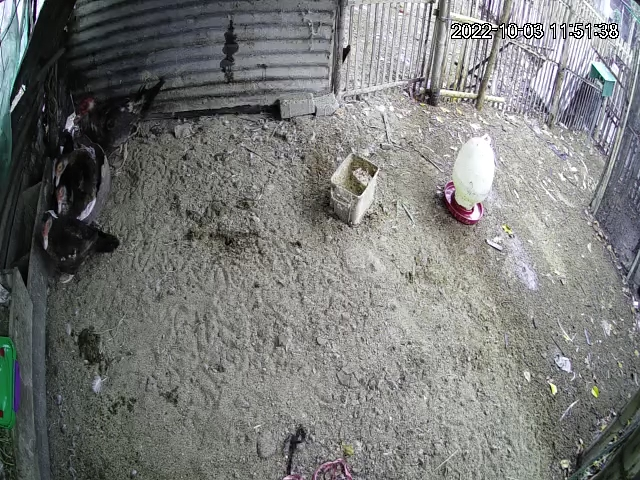Mengeram: (25, 73, 161, 268)
